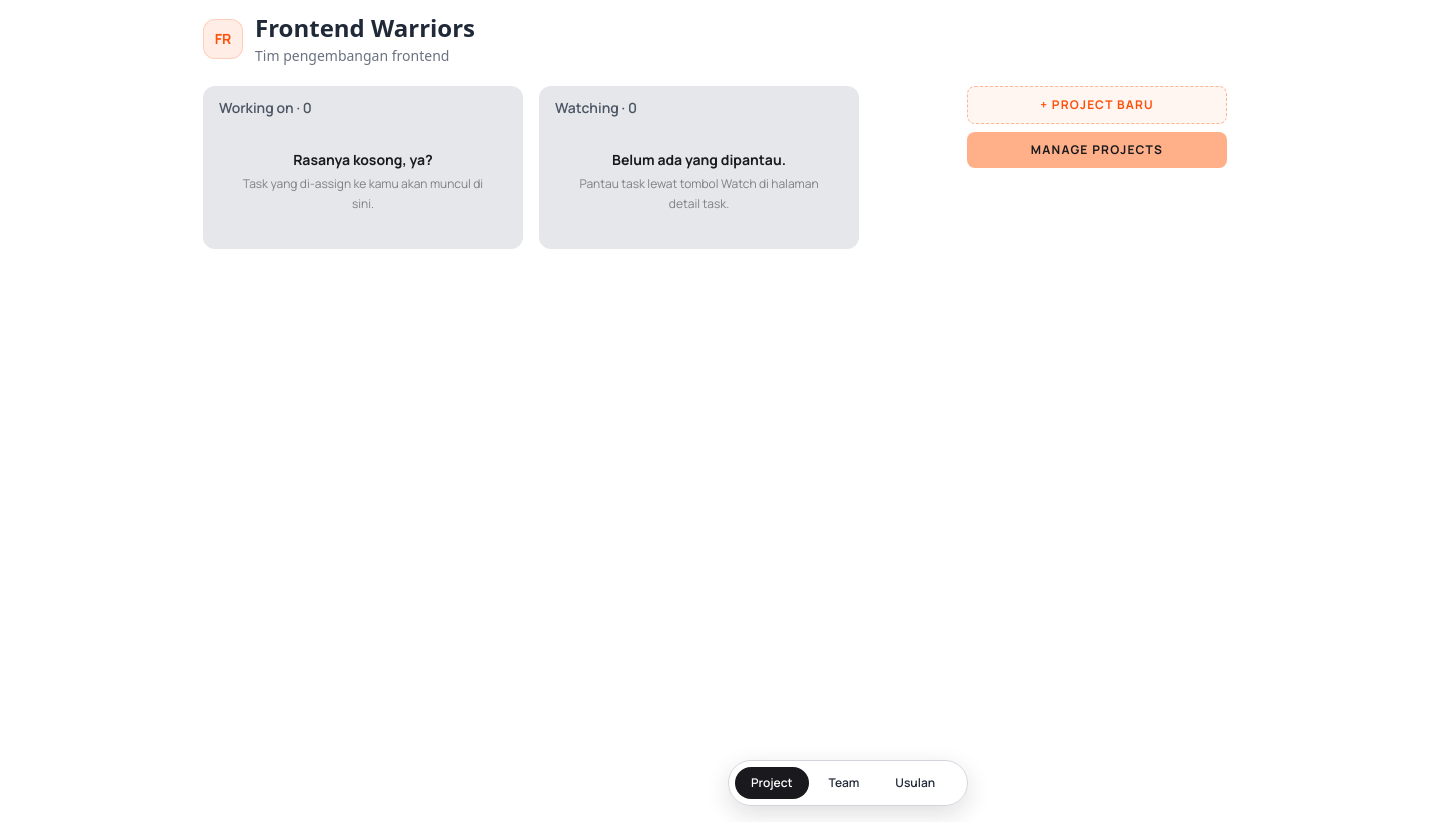
Scenario: TeamPage - Tab Usulan in Cell Pill › shows friendly empty state when no proposals exist
Expected: the heading "Frontend Warriors" is shown, [255,12,475,44]
Step 1. Click the tab "Usulan" → point(915, 783), box [879,767,951,799]
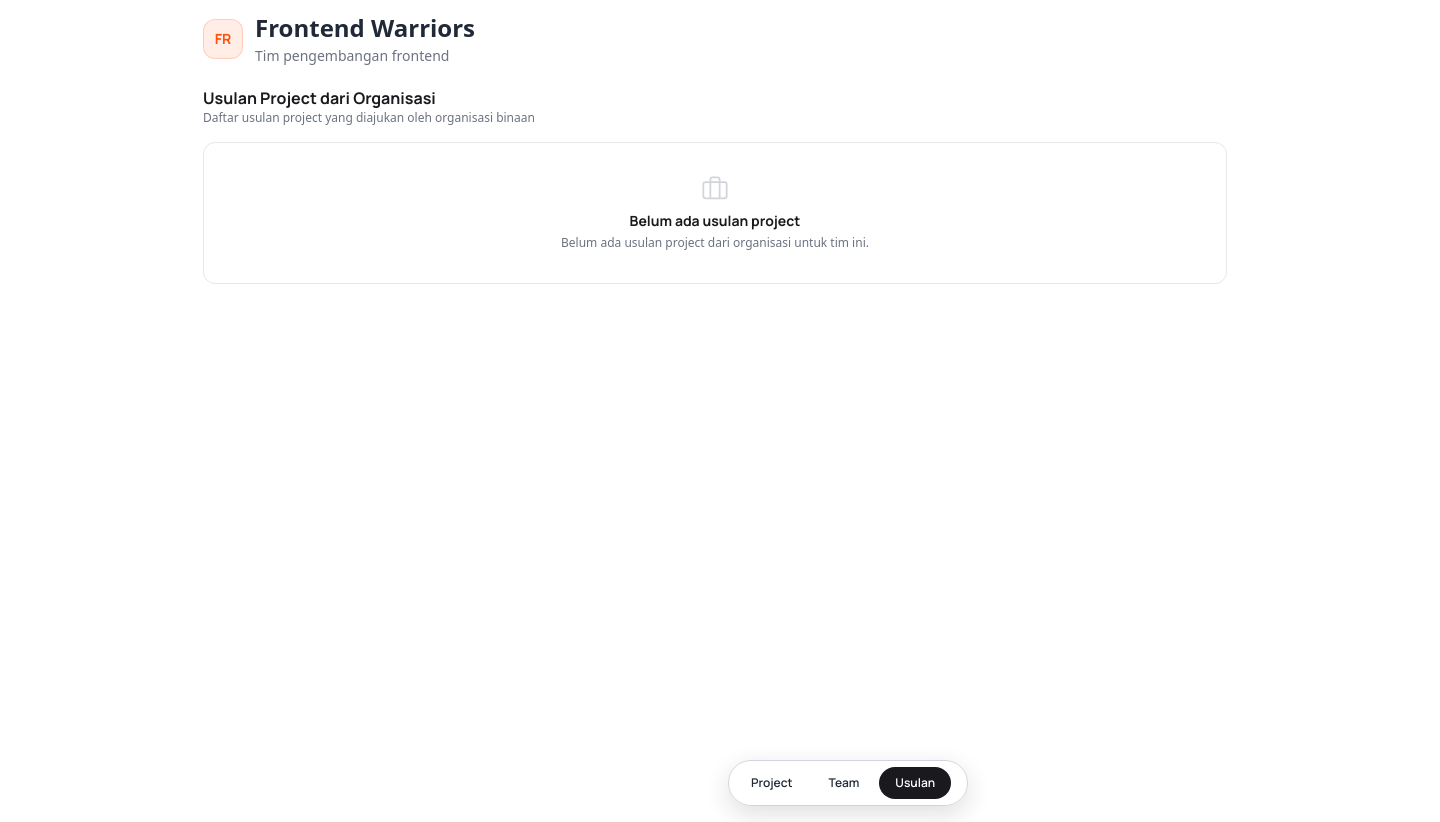
Expected: the text "Belum ada usulan project dari organisasi untuk tim ini." is shown, [561,234,869,251]
